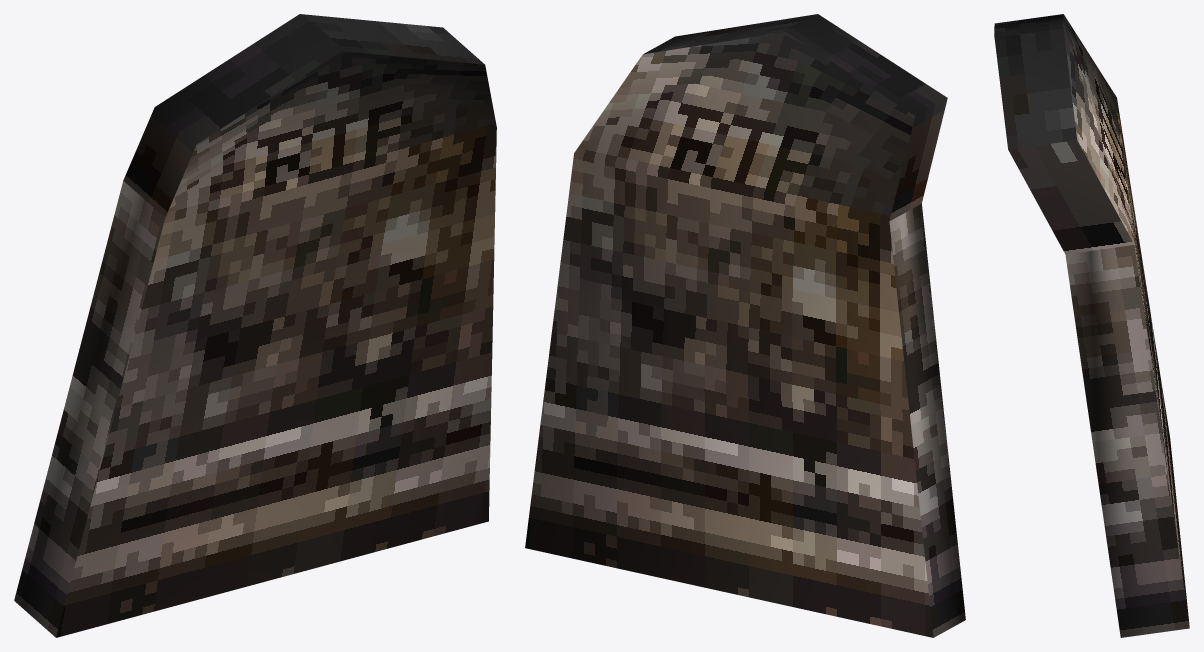
Rendered from USA - Prop - Tombstones 01 - Damaged - PATtombstn_D.glb.
The picture shows the model from 3 angles, left to right: view 1: azimuth 30°, elevation 25°; view 2: azimuth 150°, elevation 25°; view 3: azimuth 270°, elevation 25°; orthographic projection. The views are drawn at different scales.
Visible parts, largest first — view 1: PATTOMBSTN_D; view 2: PATTOMBSTN_D; view 3: PATTOMBSTN_D.
Part boxes in pixels (bbox=[...]): PATTOMBSTN_D: bbox=[14, 14, 496, 637]; PATTOMBSTN_D: bbox=[525, 14, 965, 637]; PATTOMBSTN_D: bbox=[994, 14, 1189, 637].
Size of the model in its own units: 5.3 by 6.63 by 2.27.
Materials: 1 (1 with a texture image).
